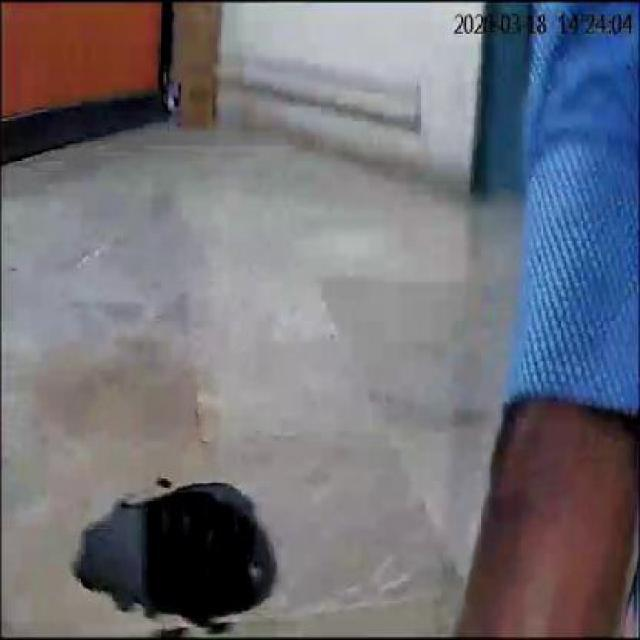spill: (76, 480, 282, 622)
